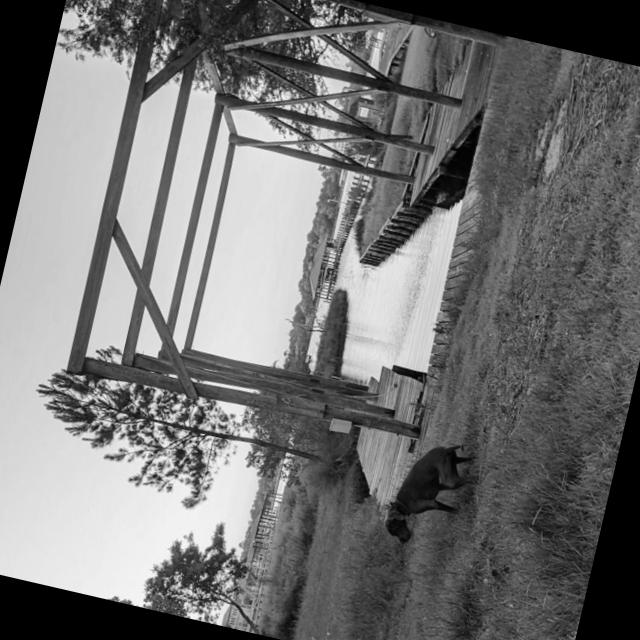squatting: (374, 422, 492, 560)
